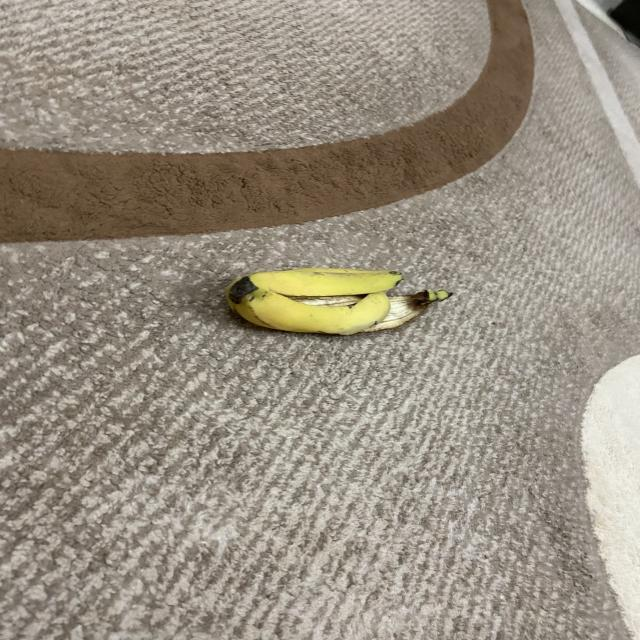banana-peel: (225, 266, 452, 336)
